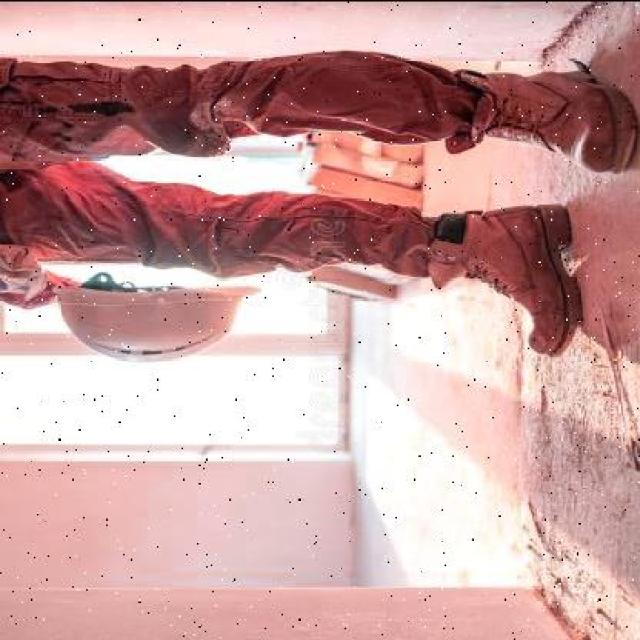shoes: (454, 52, 635, 168), (440, 201, 578, 353)
